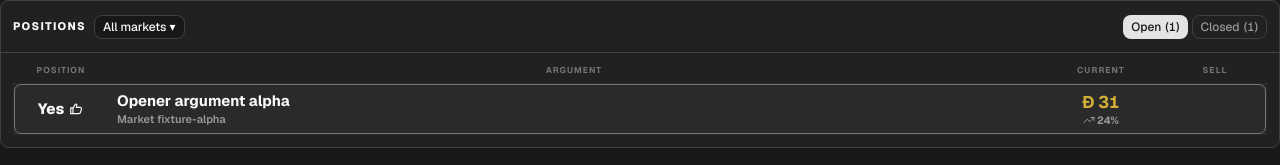
Test: HTML-FINISH profile rows 2 · 7 — the arena panels and their bars › row7a::ESC-closes-the-popover-canon-§5
Click the button with test id "positions-market-filter".
click(139, 27)  # box 94,15 -> 184,39
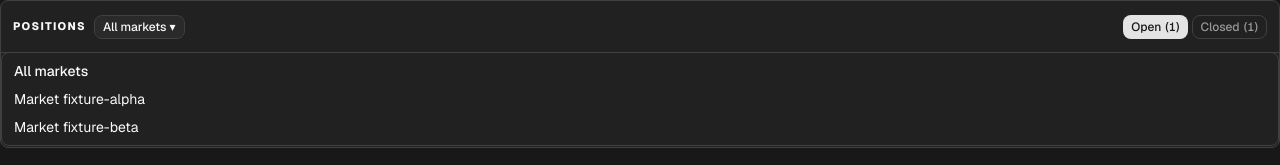
Now the list with test id "positions-market-popover" is shown, box 1,52 -> 1279,146
Press Escape
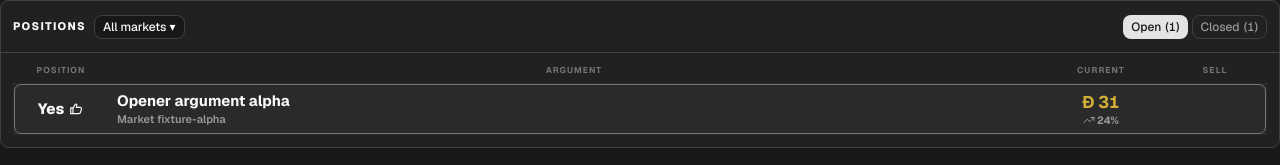
Now the list with test id "positions-market-popover" is gone
